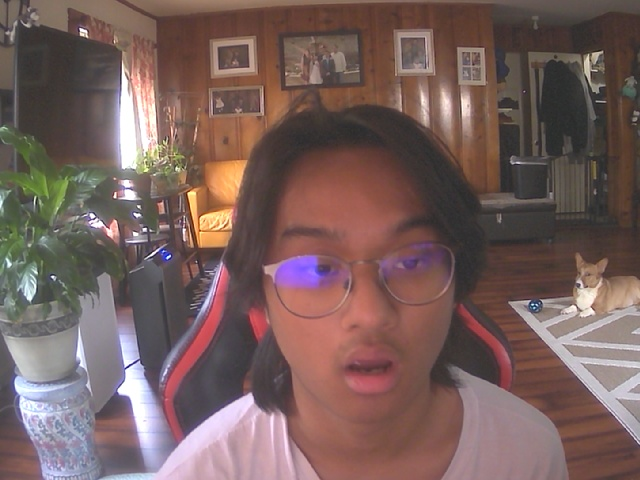fear: (246, 114, 473, 428)
